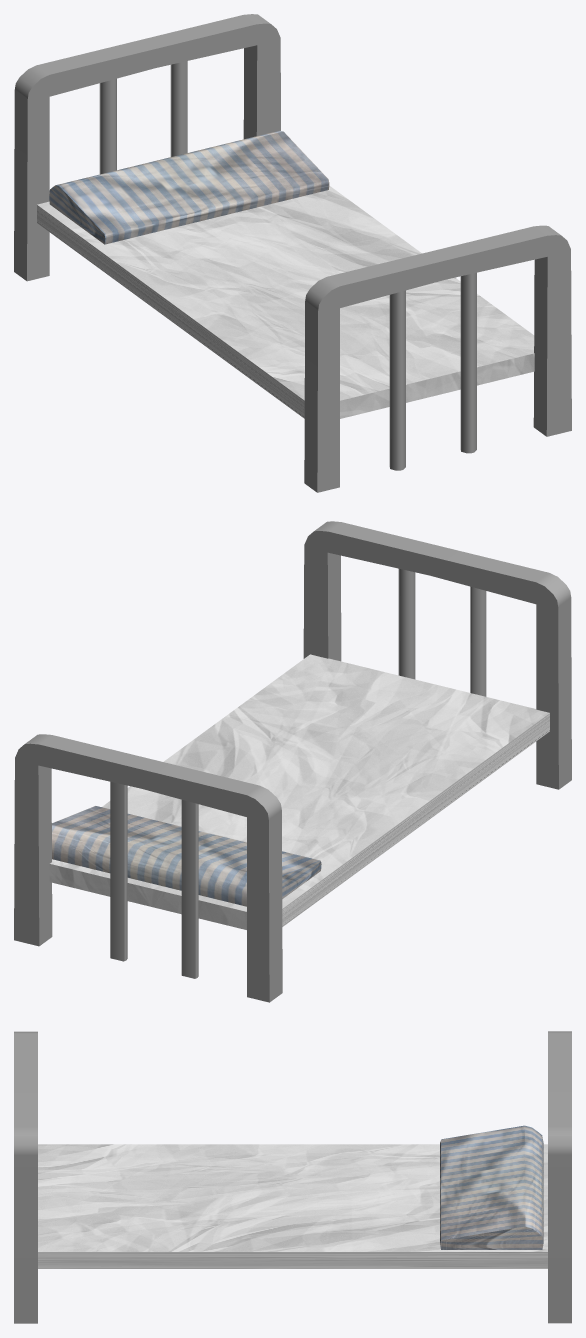
Rendered from Hospital_bed.fbx.
3 views of the same model, one above another, from view 1: azimuth 30°, elevation 25°; view 2: azimuth 150°, elevation 25°; view 3: azimuth 270°, elevation 25° (orthographic). The views are drawn at different scales.
Visible parts, largest first — view 1: Bed_03_uvText:Bed_Bed; view 2: Bed_03_uvText:Bed_Bed; view 3: Bed_03_uvText:Bed_Bed.
Boxes of the visible parts, box(x1,y1,x2,y2) form: Bed_03_uvText:Bed_Bed: box(14, 14, 571, 492); Bed_03_uvText:Bed_Bed: box(14, 521, 571, 1002); Bed_03_uvText:Bed_Bed: box(14, 1031, 571, 1323).
Bounding box in the file's own units: 6.86 × 5.16 × 14.04.
Materials: 3 (2 with a texture image).
